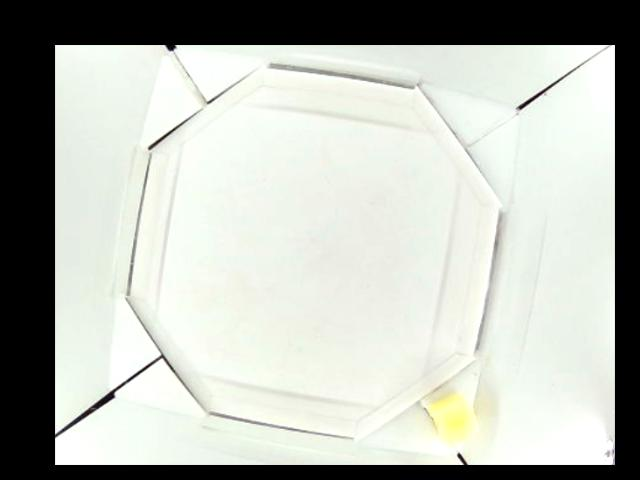Potato: (425, 390, 479, 446)
